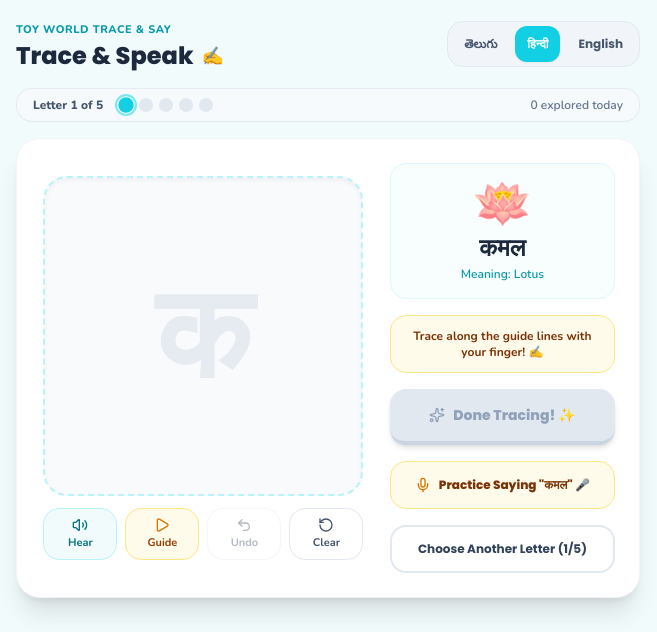
Scenario: Trace & Say: Canonical Strokes & Tracing Evaluation Engine › 7. Honest Speech Recognition Fallback: displays offline practice mode when STT is absent
Open language/letter picker
Click the button "Choose Another Letter (1/5)".
click(502, 549)  # box [390,525,615,573]
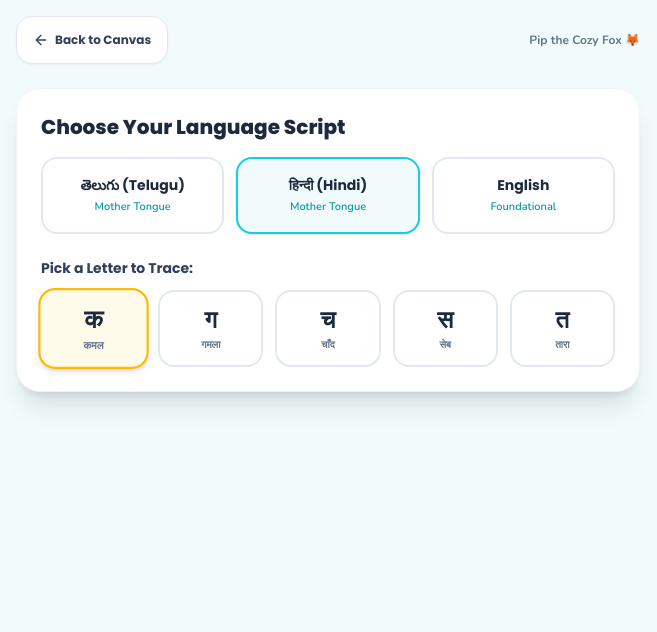
Expected: the heading "Choose Your Language Script" is shown, [41,113,346,141]
